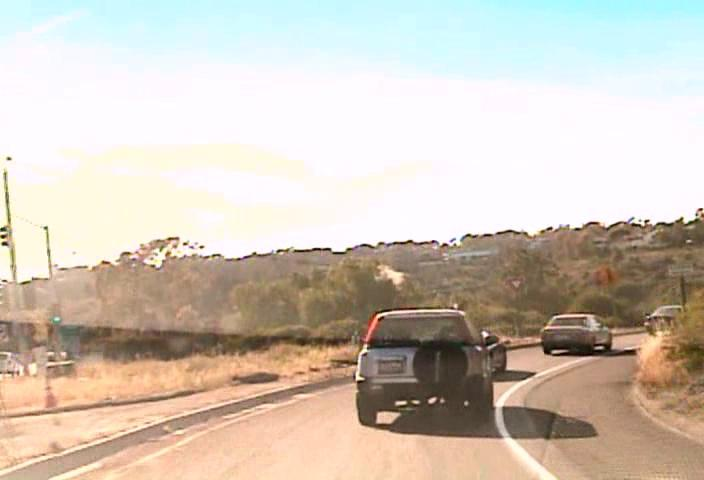yield: (507, 277, 525, 291)
